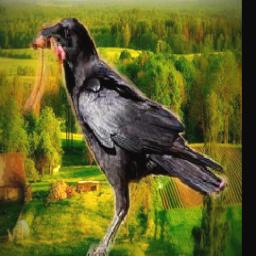Crow: (17, 8, 229, 256)
